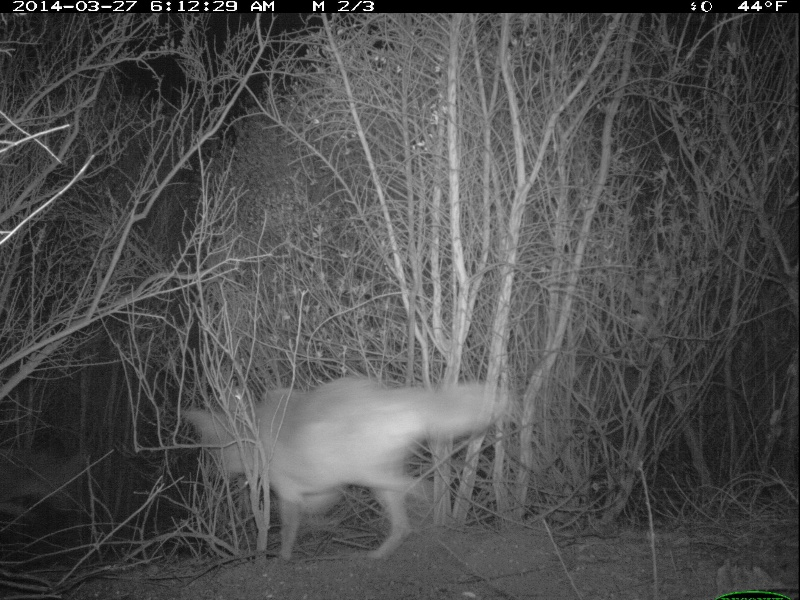coyote: (189, 373, 511, 565)
